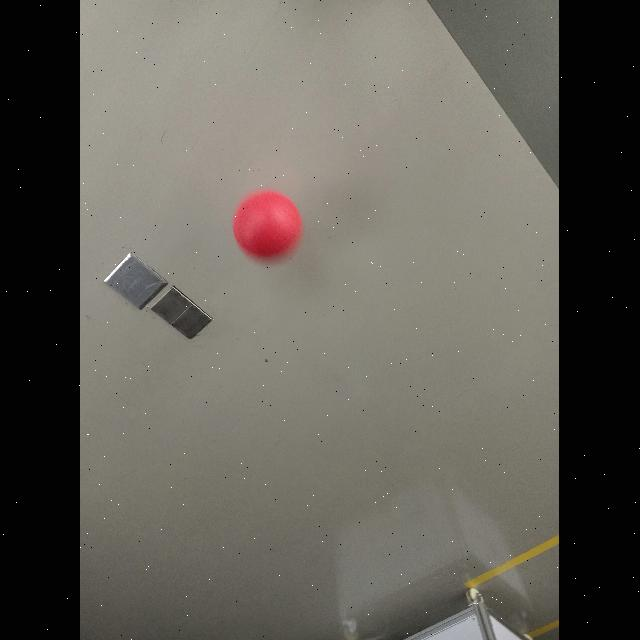R: (231, 188, 301, 264)
